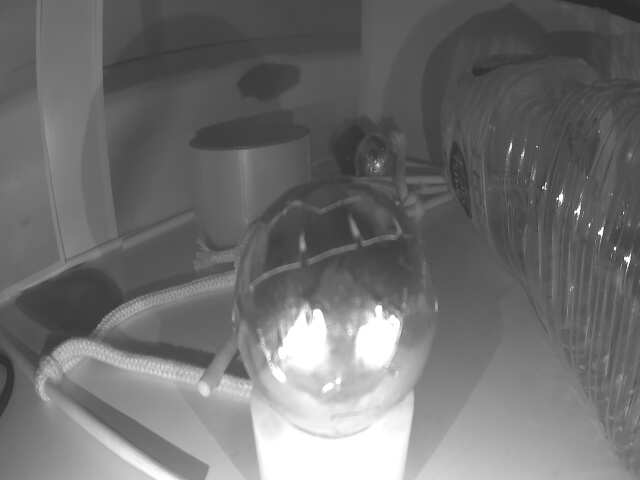Live: (234, 180, 442, 432), (353, 132, 397, 189)
